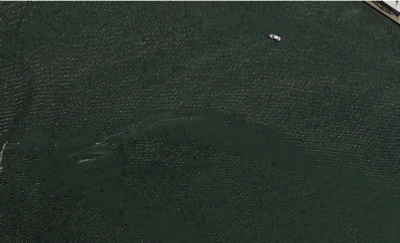boat: (268, 32, 282, 41)
